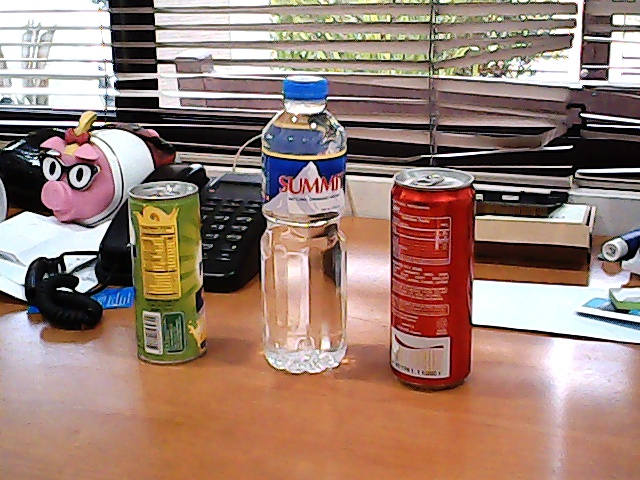Cola: (387, 166, 481, 394)
Pine Juice: (132, 178, 205, 370)
Summit Water: (255, 71, 355, 375)
